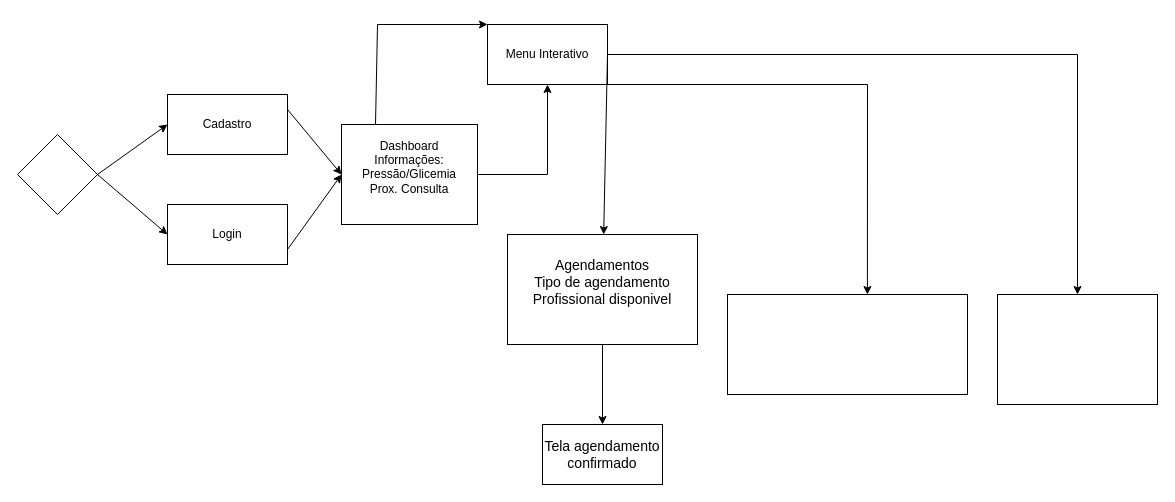
Image size: 1175x502. Some labels were removed from this diagram. The shapes that lost their labels are listed below. From the top down, each one's centre as x and y in pixels, then its label:
At (x=57, y=174): "Usuario".
At (x=847, y=344): "Historico de registros de saúde Registro de pressão/Glicemia/Frequencia cardiaca".
At (x=1077, y=349): "Perfil do usuario Editar perfil Informaçoes pessoais Preferencias de comunicação".
